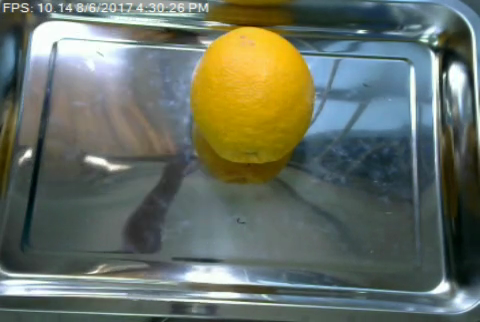Orange: (189, 26, 315, 166)
